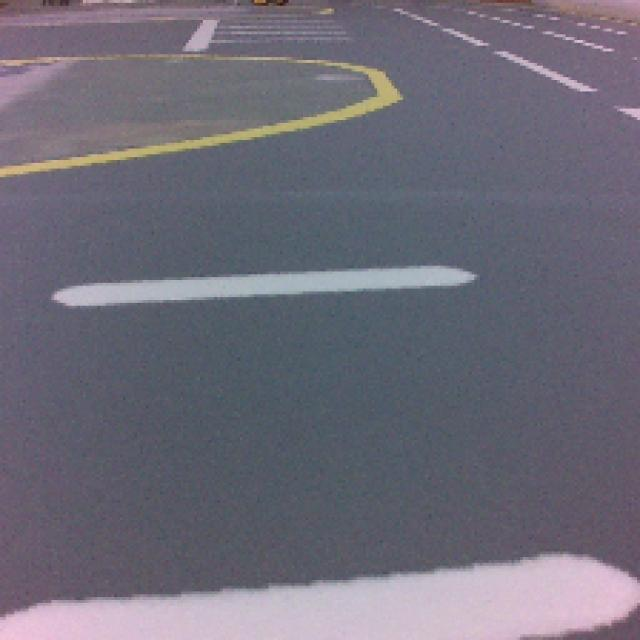Guard rail: (0, 561, 640, 640)
